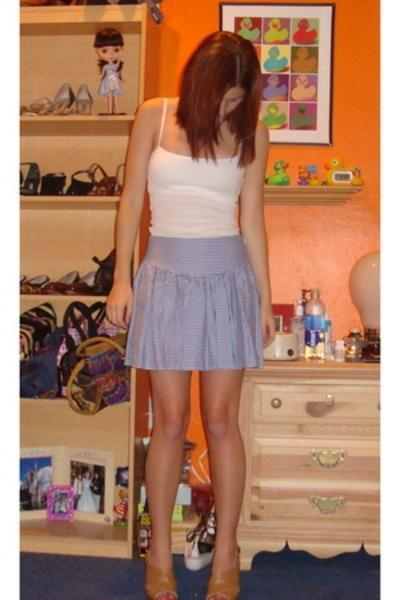shirt: (148, 145, 241, 238)
shoe: (146, 571, 238, 599)
skirt: (122, 233, 264, 384)
